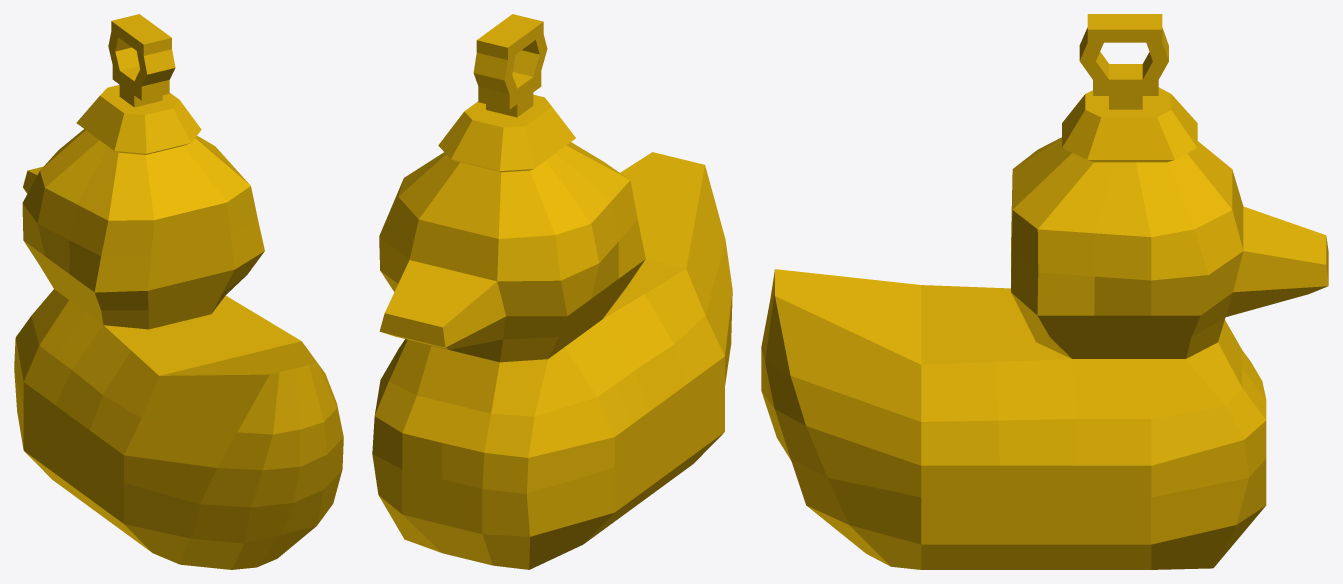
The model's file is Duck.fbx.
3 renders of one model, left to right at view 1: azimuth 30°, elevation 25°; view 2: azimuth 150°, elevation 25°; view 3: azimuth 270°, elevation 25°, orthographic. The views are drawn at different scales.
Parts seen in each view (by area): view 1: ankka; view 2: ankka; view 3: ankka.
Boxes of the visible parts, x1,y1,x2,y2 form: ankka: (14, 14, 343, 569); ankka: (372, 14, 732, 569); ankka: (761, 14, 1328, 569).
Bounding box in the file's own units: 7.24 × 14.74 × 14.56.
